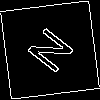N: (25, 25, 84, 83)
